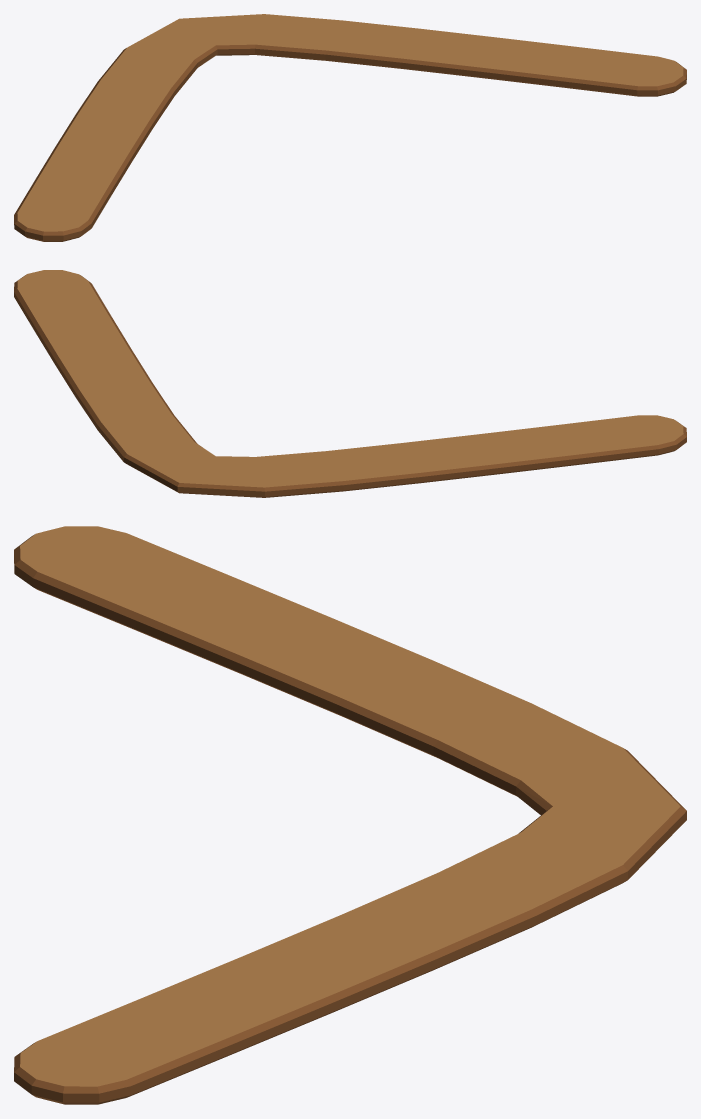
The model's file is NEW_RECOVERY_006_LOD2.fbx.
The picture shows the model from 3 angles, top to bottom: view 1: azimuth 30°, elevation 25°; view 2: azimuth 150°, elevation 25°; view 3: azimuth 270°, elevation 25°; orthographic projection. The views are drawn at different scales.
Parts seen in each view (by area): view 1: Boomerang; view 2: Boomerang; view 3: Boomerang.
Boxes of the visible parts, x1,y1,x2,y2 form: Boomerang: (14, 14, 686, 241); Boomerang: (14, 270, 686, 497); Boomerang: (14, 526, 686, 1104).
Size of the model in its own units: 53.43 by 26.87 by 0.8.
